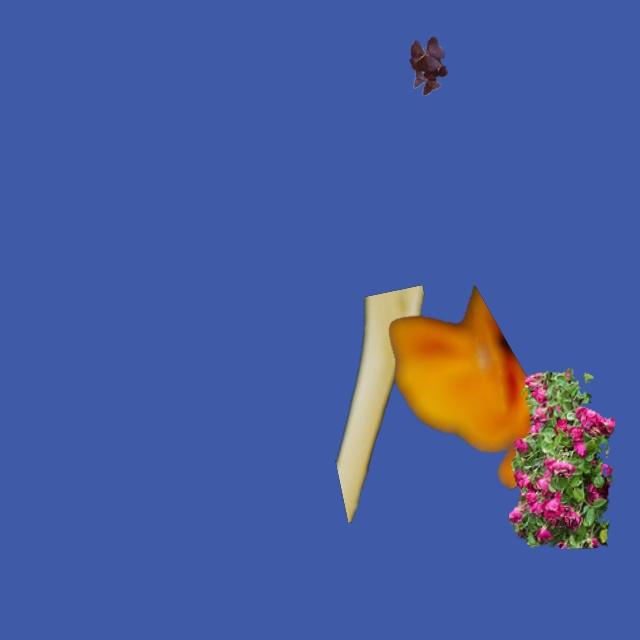butterfly flower: (410, 37, 447, 95)
dahlia: (336, 285, 423, 522)
rose: (509, 368, 614, 548)
wallflower: (389, 286, 570, 489)
